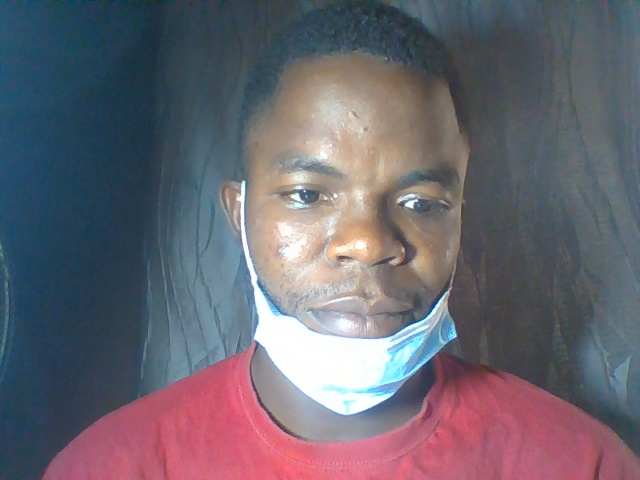MaskOff: (214, 3, 491, 418)
